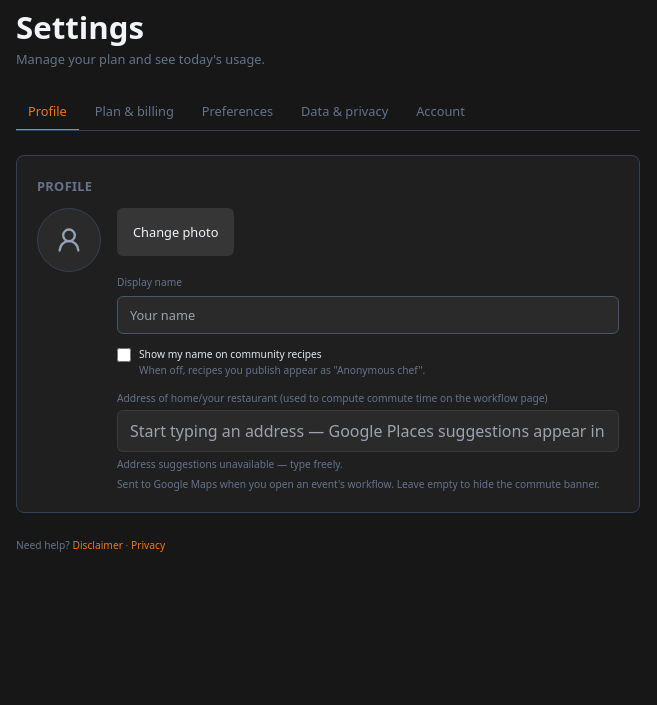
Scenario: SettingsPage › clicking a tab swaps the visible section
This screenshot has width=657, height=705.
Expected: the heading "theme" is not shown
# Click Preferences → Theme heading appears.
Click the tab with test id "settings-tab-preferences": (237, 112) x1=190 y1=93 x2=285 y2=131
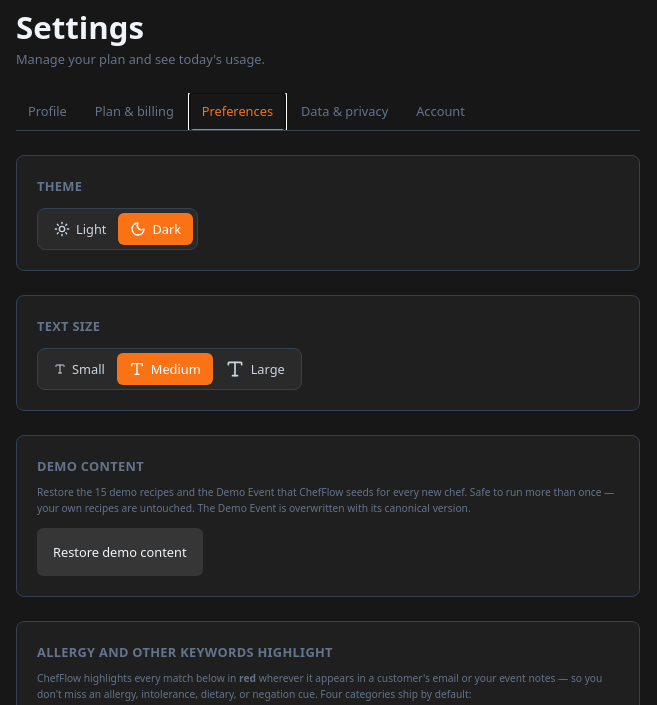
Expected: the heading "Theme" is shown, x1=37 y1=177 x2=82 y2=195
